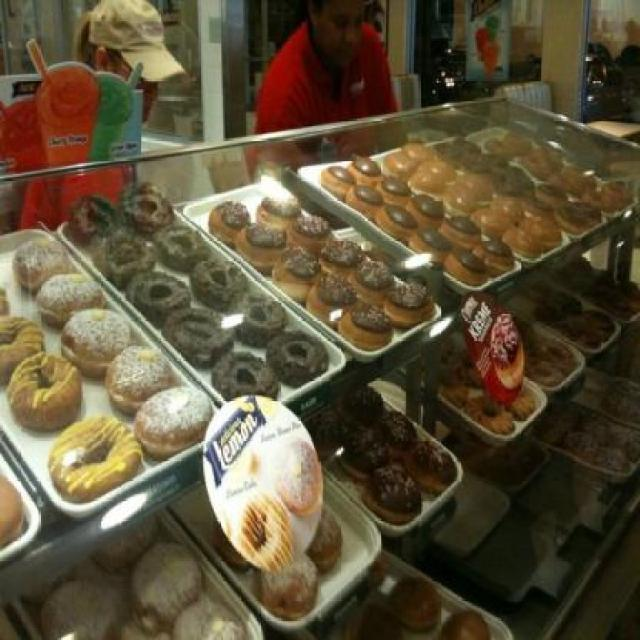Donuts: (1, 127, 640, 630)
